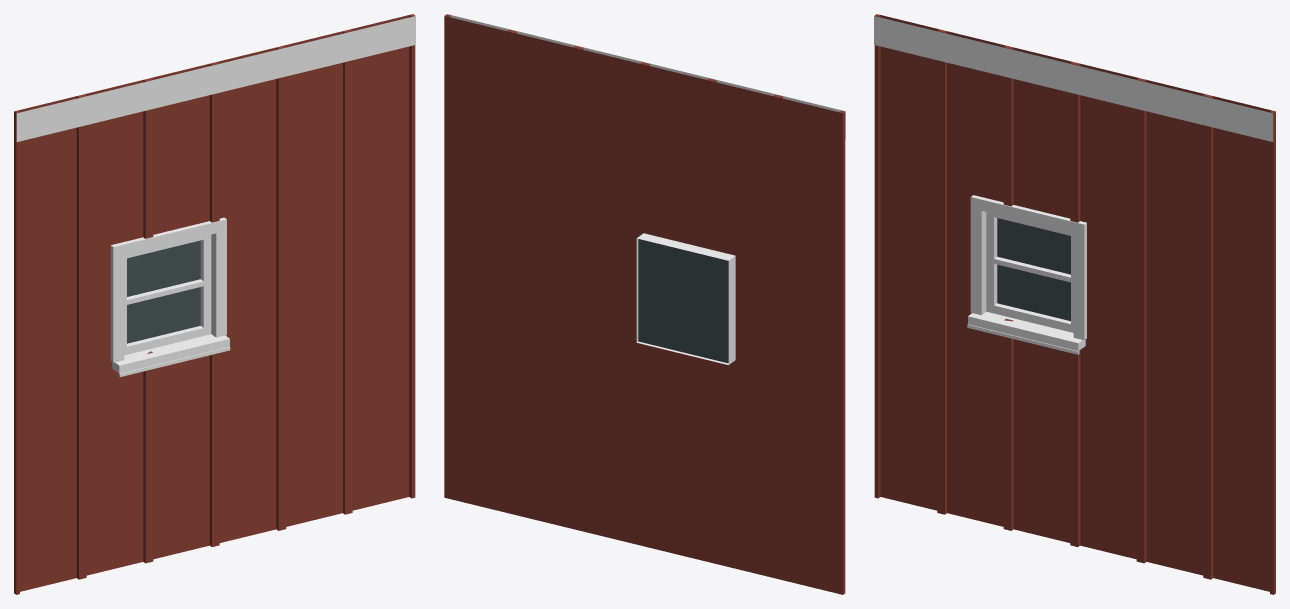
Rendered from top-w4_close.fbx.
The picture shows the model from 3 angles, left to right: view 1: azimuth 30°, elevation 25°; view 2: azimuth 150°, elevation 25°; view 3: azimuth 330°, elevation 25°; orthographic projection.
Parts seen in each view (by area): view 1: a2015/600/top-w4_close; view 2: a2015/600/top-w4_close; view 3: a2015/600/top-w4_close.
Part boxes in pixels (x1,y1,x2,y2): a2015/600/top-w4_close: (14, 14, 415, 594); a2015/600/top-w4_close: (444, 14, 845, 594); a2015/600/top-w4_close: (874, 14, 1275, 594).
Size of the model in its own units: 2.6 by 3 by 0.165.
